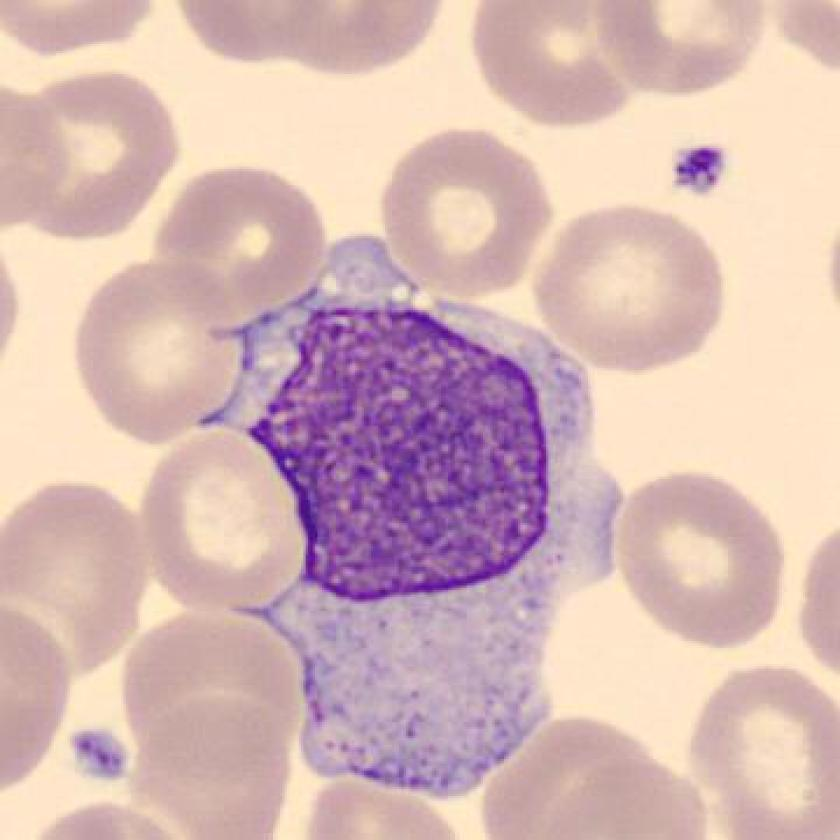monocyte: (176, 212, 645, 809)
